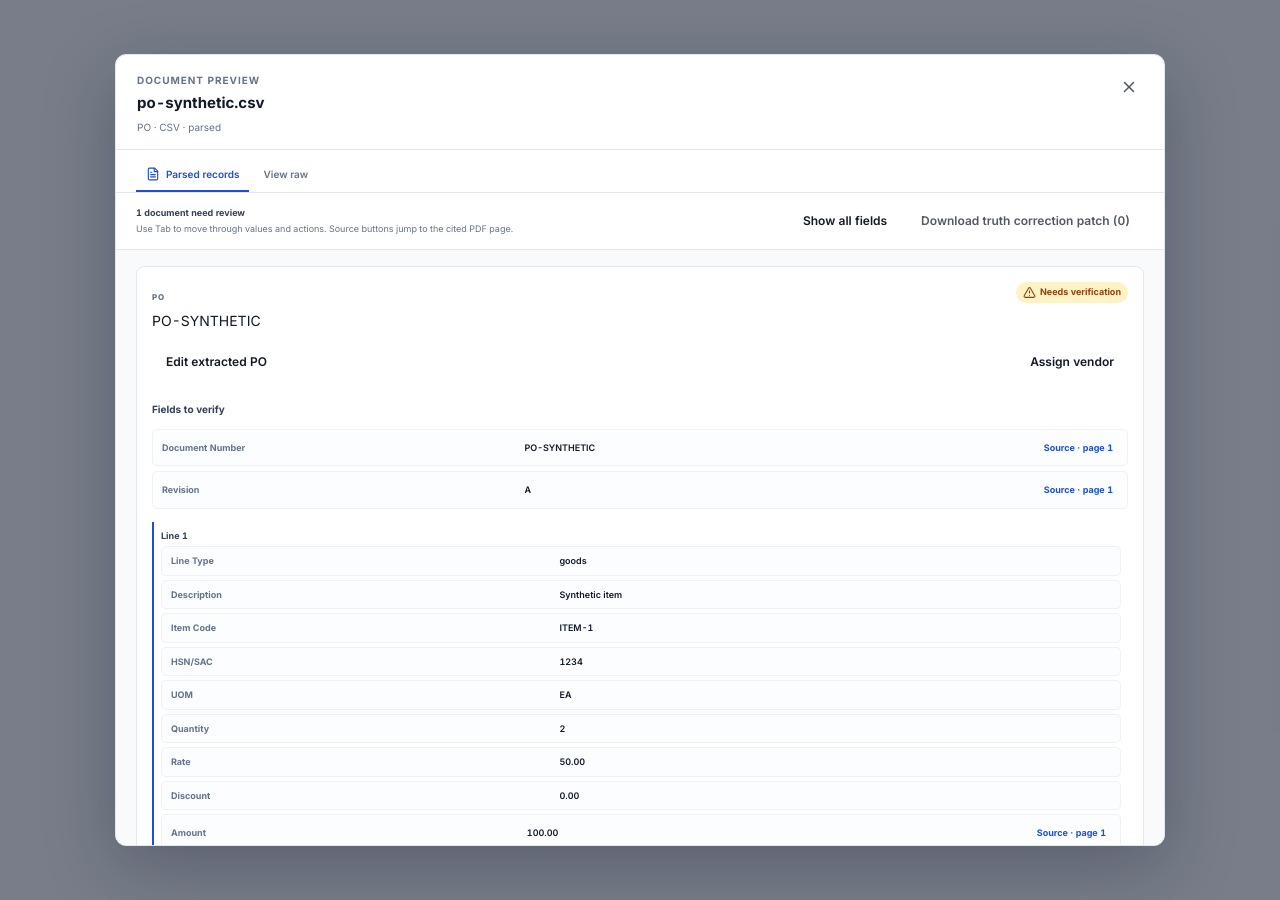
Test: AC-7 PO/GRN verification editor › saves a verified po correction with its typed fields and evidence
The width and height of the screenshot is (1280, 900).
Check: the heading "PO-SYNTHETIC" is shown, box [152, 310, 261, 330]
Check: the heading "Fields to verify" is shown, box [152, 402, 225, 414]
Step 1. Click the button "Edit extracted PO" → {"x": 216, "y": 362}, box [152, 344, 281, 380]
(page scrolled)
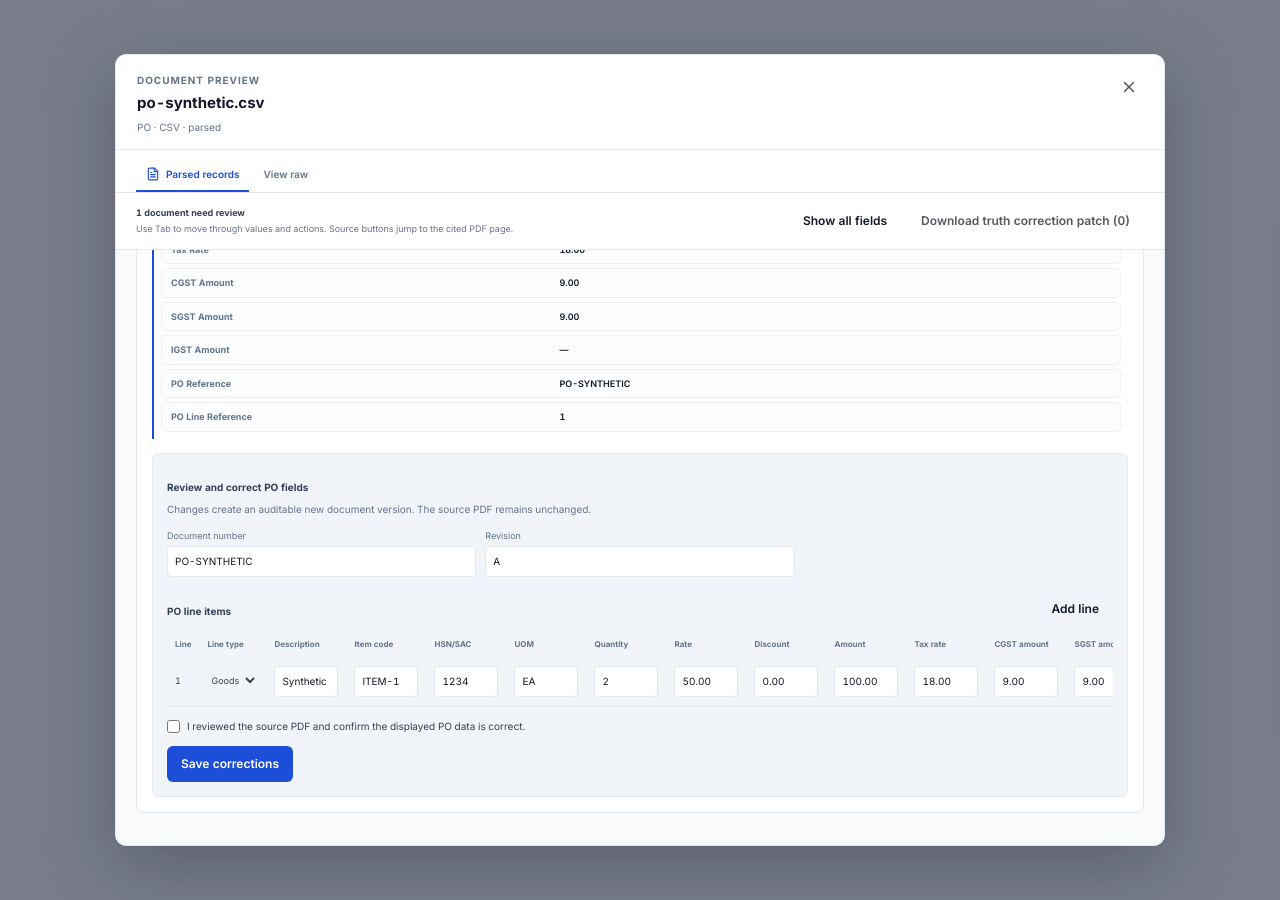
Step 2. Replace the text in the field labelled "Revision" with "B" → {"x": 640, "y": 562}, box [485, 546, 795, 577]
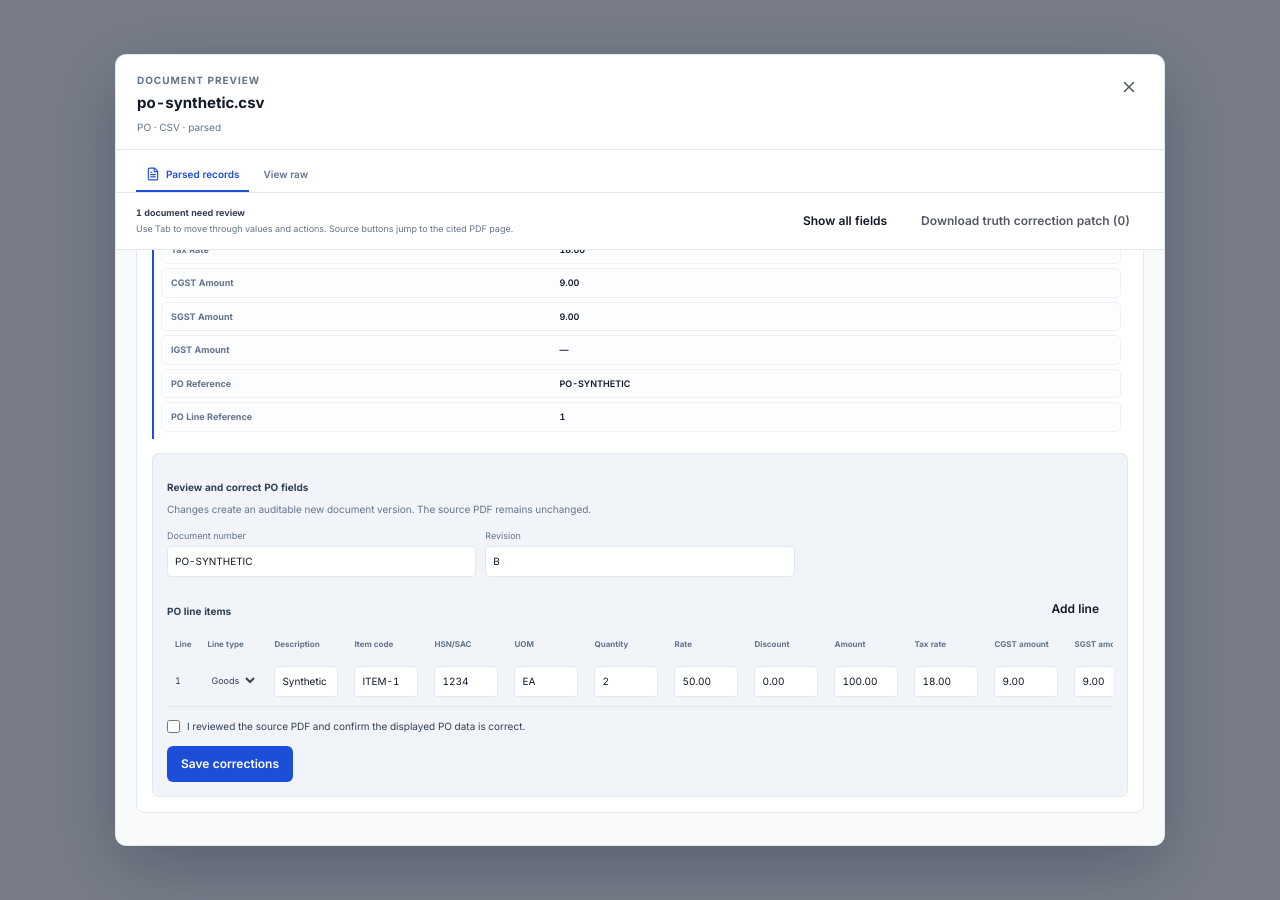
Step 3. Click the checkbox → {"x": 174, "y": 726}, box [167, 720, 180, 733]
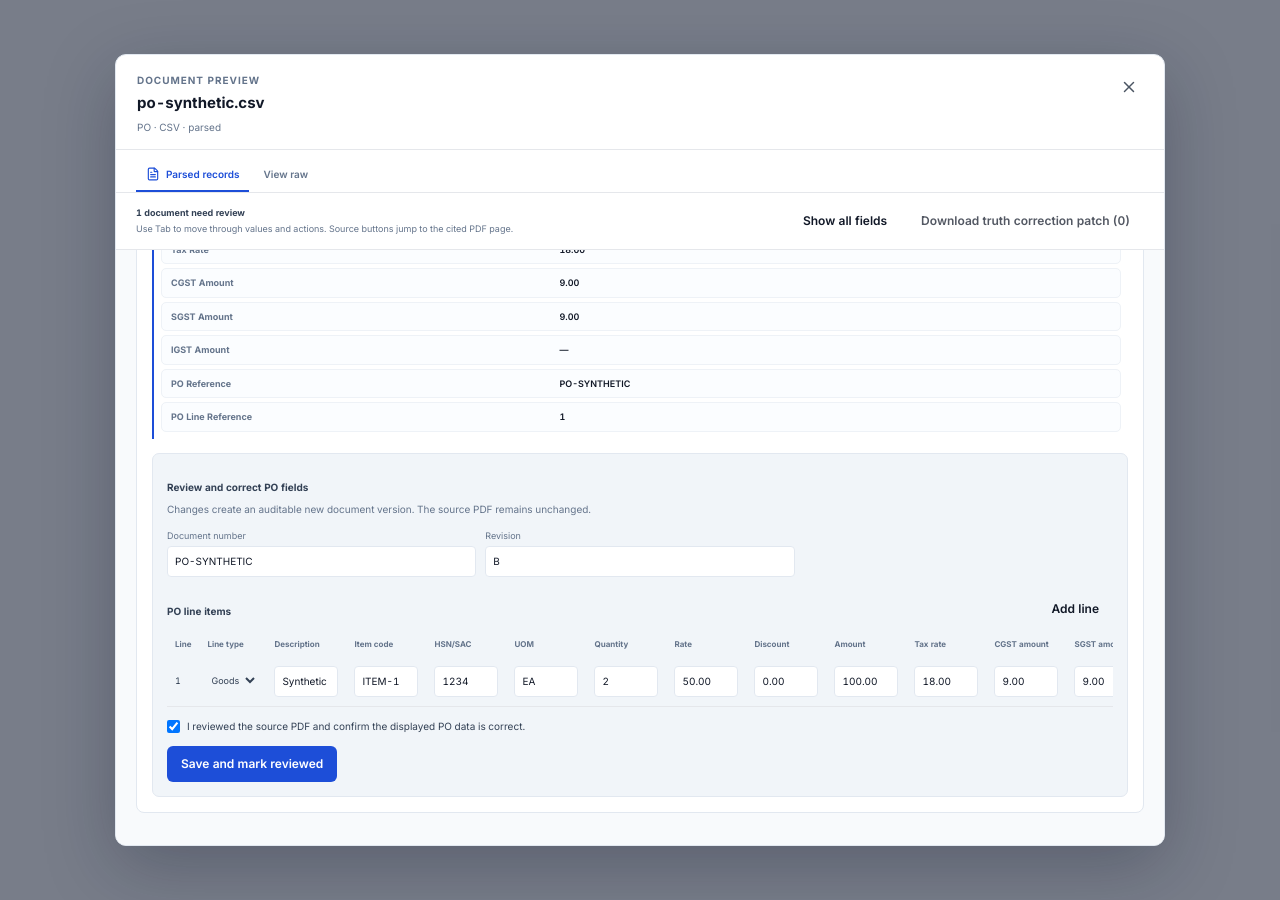
Step 4. Click the button "Save and mark reviewed" → {"x": 252, "y": 764}, box [167, 746, 337, 782]
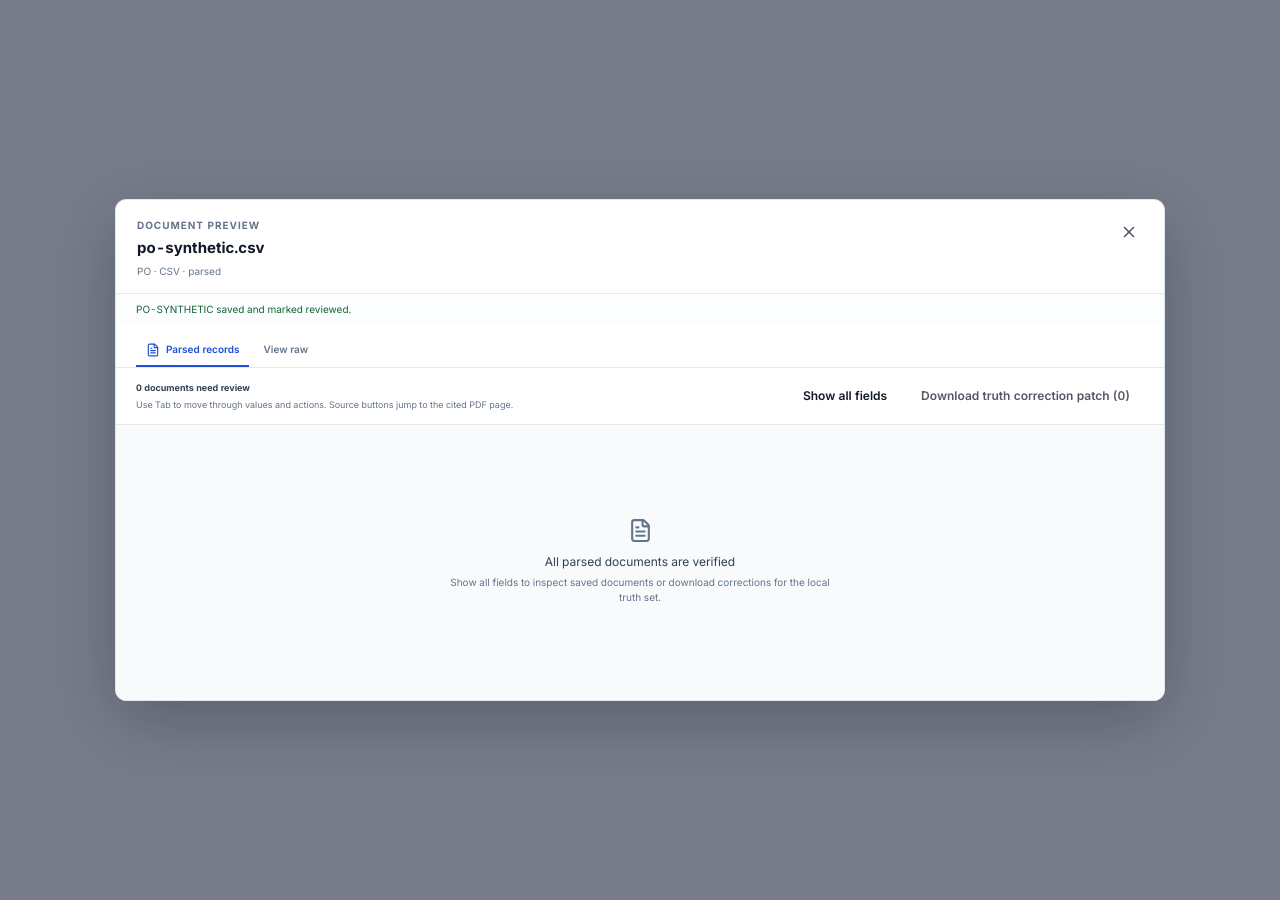
Check: the text "PO-SYNTHETIC saved and marked reviewed." is shown, box [116, 294, 1164, 325]
